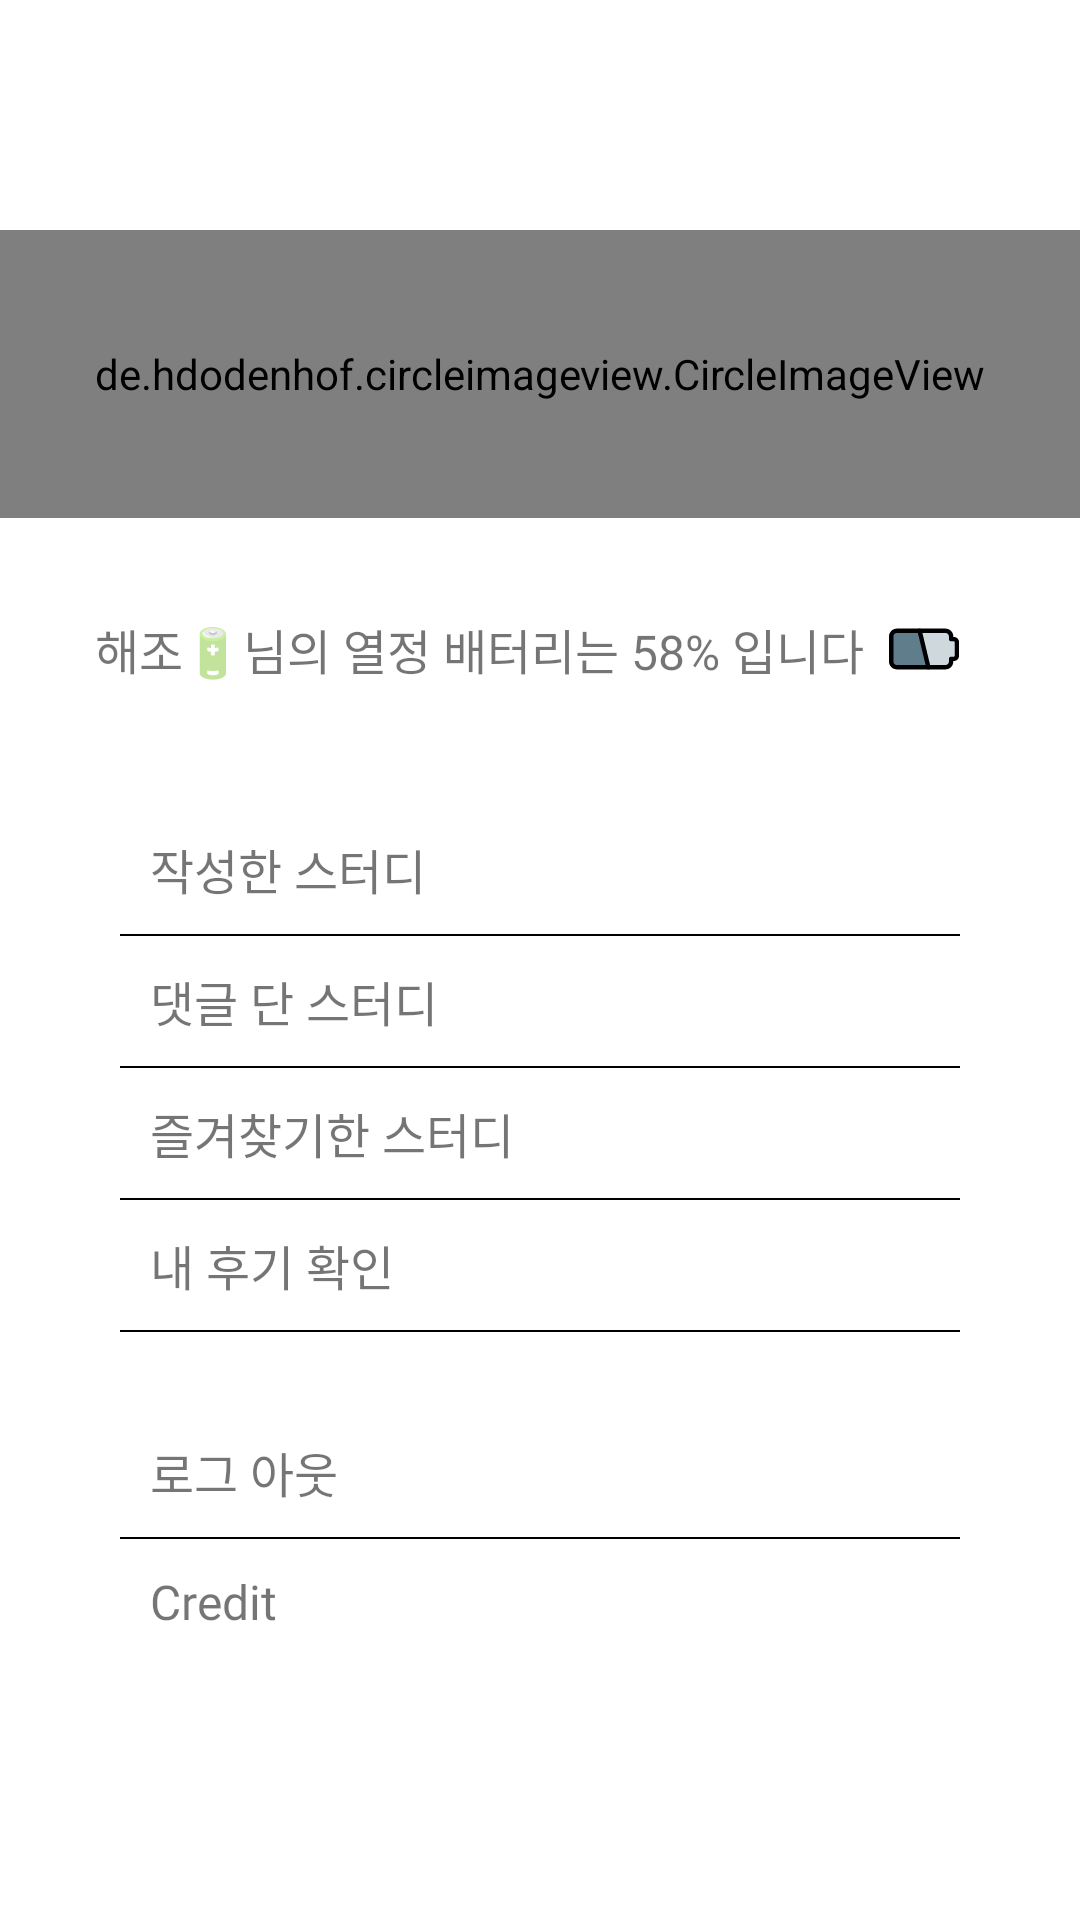

Screen size 1080px x 1920px. Icon name, then its center in pixels as (x=x, y=y):
battery: (x=924, y=649)
